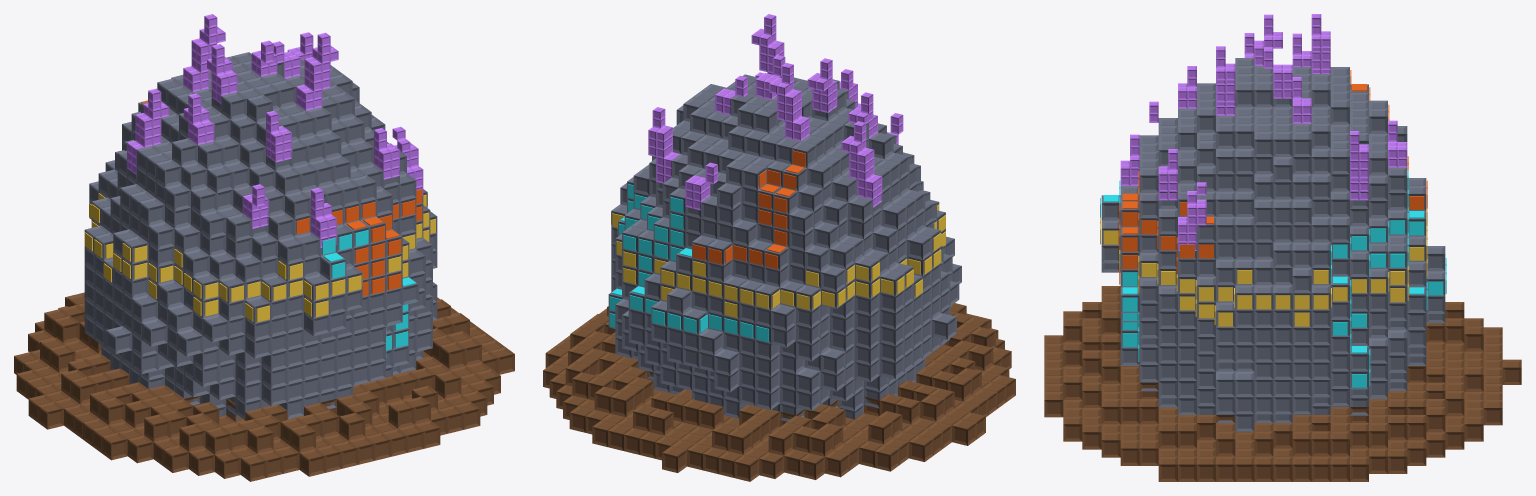
Rendered from Geoda_Ancestral.fbx.
The picture shows the model from 3 angles, left to right: view 1: azimuth 30°, elevation 25°; view 2: azimuth 150°, elevation 25°; view 3: azimuth 270°, elevation 25°; orthographic projection. The views are drawn at different scales.
Parts seen in each view (by area): view 1: Roca, Base, Cristales, Runas, Grietas, Grietas2; view 2: Roca, Base, Cristales, Runas, Grietas2, Grietas; view 3: Roca, Base, Cristales, Runas, Grietas2, Grietas.
Boxes of the visible parts, x1=… form: Roca: x1=84, y1=52, x2=437, y2=420; Base: x1=14, y1=292, x2=514, y2=481; Cristales: x1=127, y1=14, x2=423, y2=247; Runas: x1=84, y1=193, x2=435, y2=322; Grietas: x1=141, y1=100, x2=422, y2=296; Grietas2: x1=322, y1=230, x2=415, y2=357; Roca: x1=608, y1=74, x2=961, y2=421; Base: x1=543, y1=303, x2=1015, y2=481; Cristales: x1=648, y1=14, x2=903, y2=210; Runas: x1=611, y1=204, x2=945, y2=317; Grietas2: x1=609, y1=184, x2=768, y2=341; Grietas: x1=693, y1=150, x2=805, y2=269; Roca: x1=1101, y1=58, x2=1445, y2=431; Base: x1=1044, y1=286, x2=1521, y2=481; Cristales: x1=1120, y1=14, x2=1407, y2=250; Runas: x1=1100, y1=208, x2=1427, y2=326; Grietas2: x1=1100, y1=170, x2=1446, y2=389; Grietas: x1=1119, y1=70, x2=1427, y2=284.
Size of the model in its own units: 7 by 5.74 by 7.
